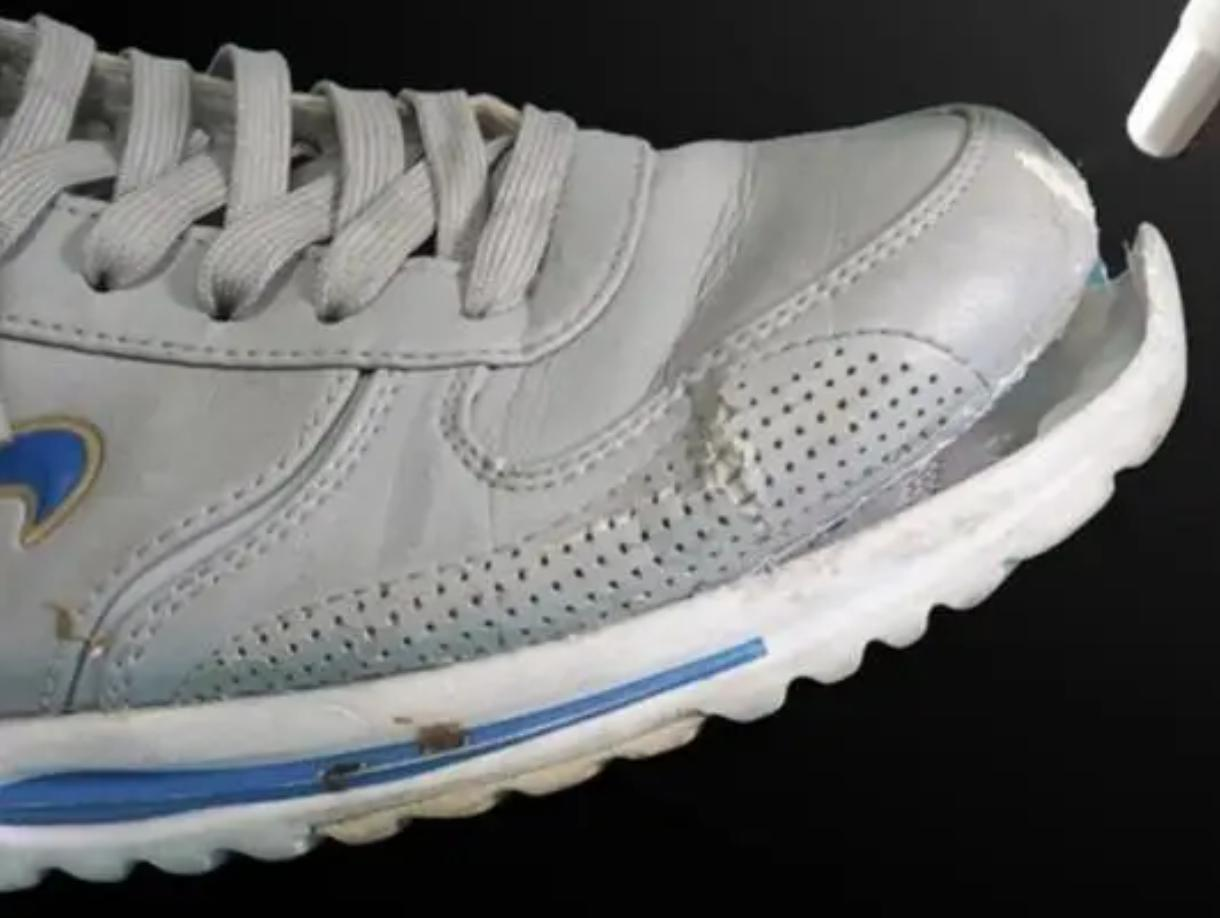bonding: (778, 197, 1190, 568)
